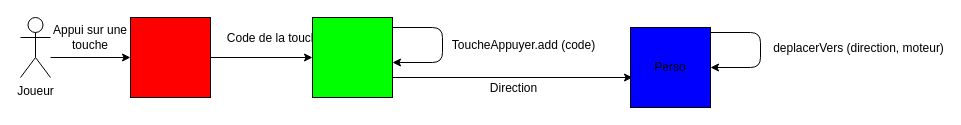
The diagram is 961 pixels wide and 125 high, and some of its shapes have lost their labels. The centre of each missing label's shape, as x and y in pixels:
"Contrôleur" belongs at point (352, 57).
"Vue" belongs at point (170, 57).
